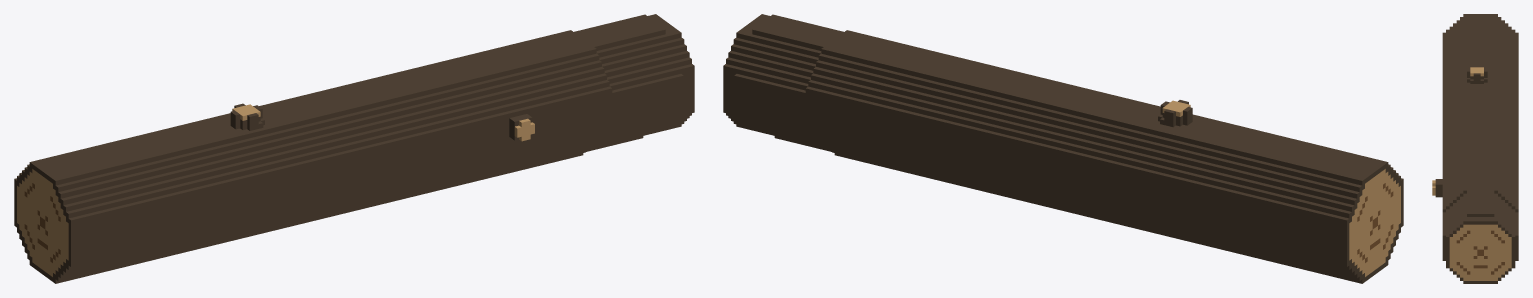
Rendered from log.glb.
3 views of the same model, side by side, from view 1: azimuth 30°, elevation 25°; view 2: azimuth 150°, elevation 25°; view 3: azimuth 270°, elevation 25° (orthographic). The views are drawn at different scales.
Visible parts, largest first — view 1: log:compound; view 2: log:compound; view 3: log:compound.
Part boxes in pixels (box(x1,y1,x2,y2)): log:compound: box(14, 14, 694, 283); log:compound: box(723, 14, 1403, 283); log:compound: box(1432, 14, 1518, 283).
Bounding box in the file's own units: 1.4 × 0.25 × 0.25.
